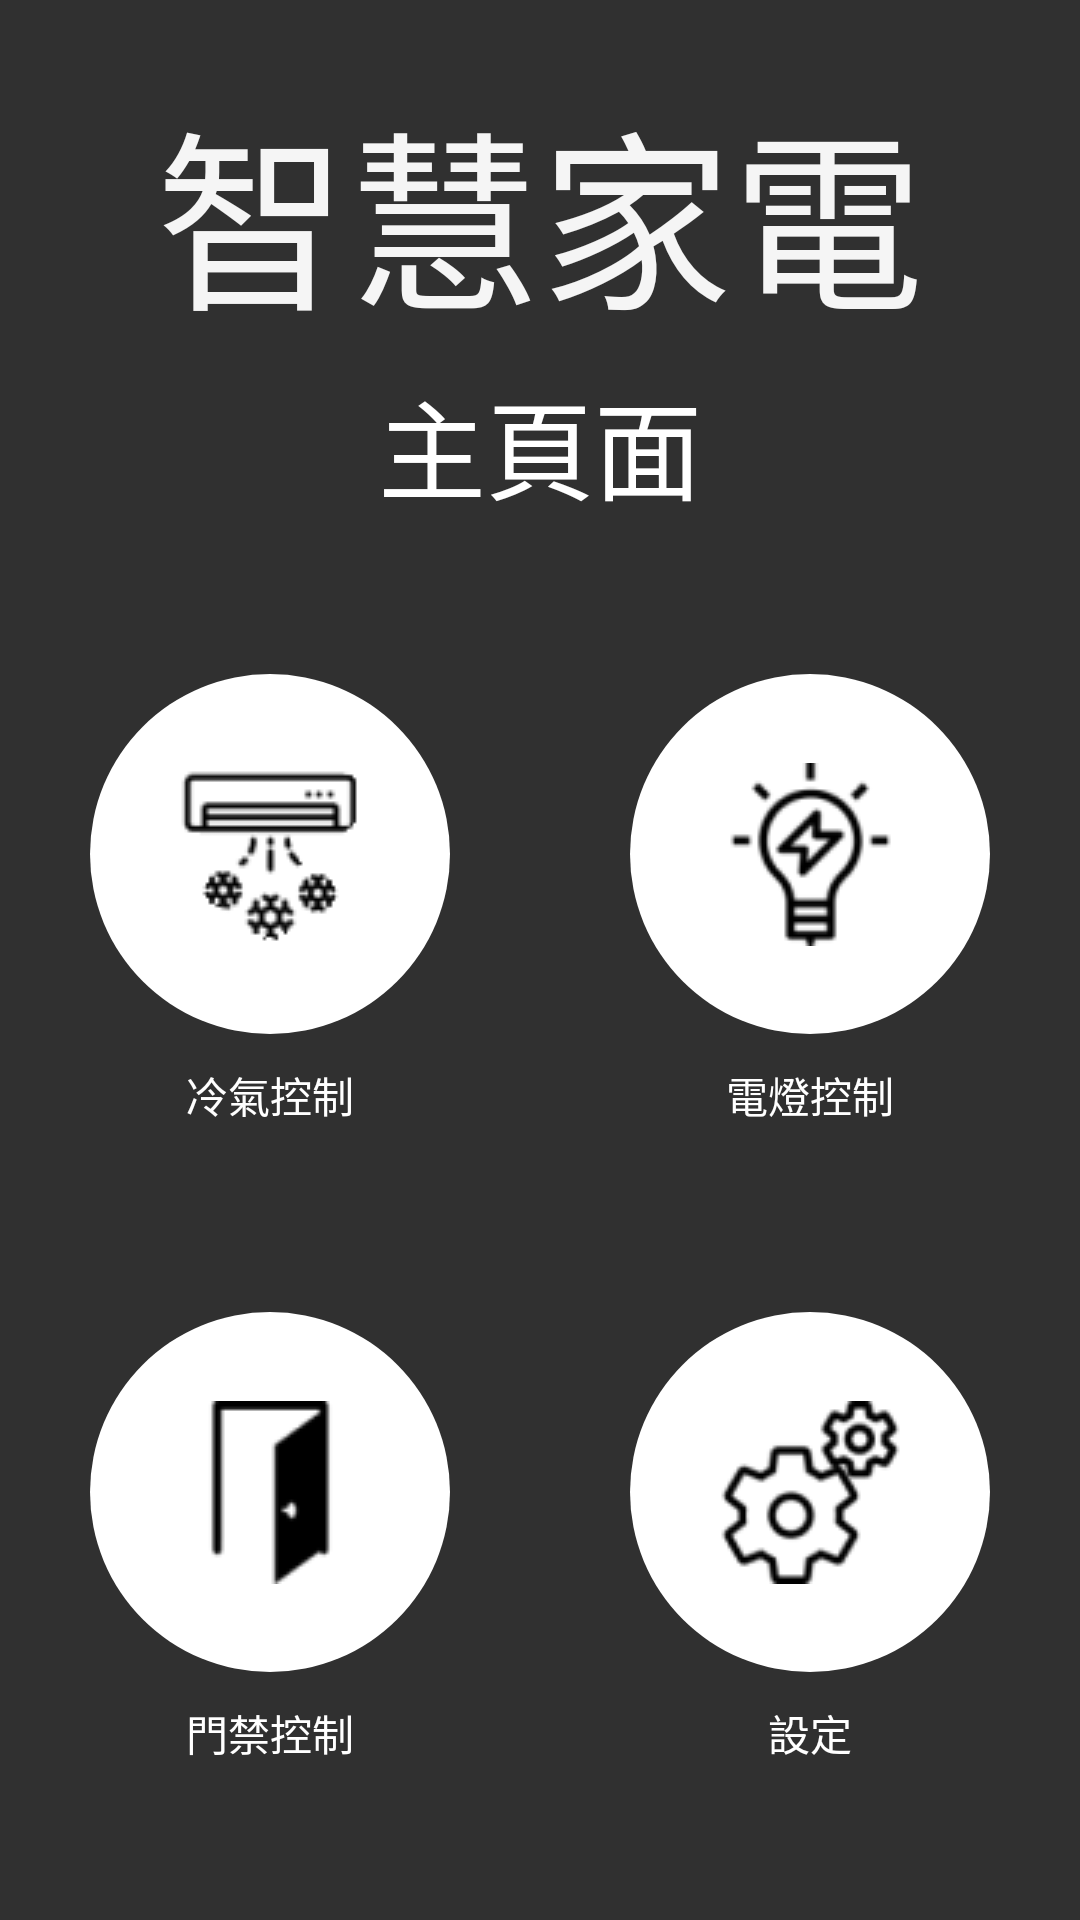

Icon bounding boxes for this 1080px x 1920px phone screenshot, format (x1, y1, x2, y2):
open door with border: (90, 1312, 450, 1672)
